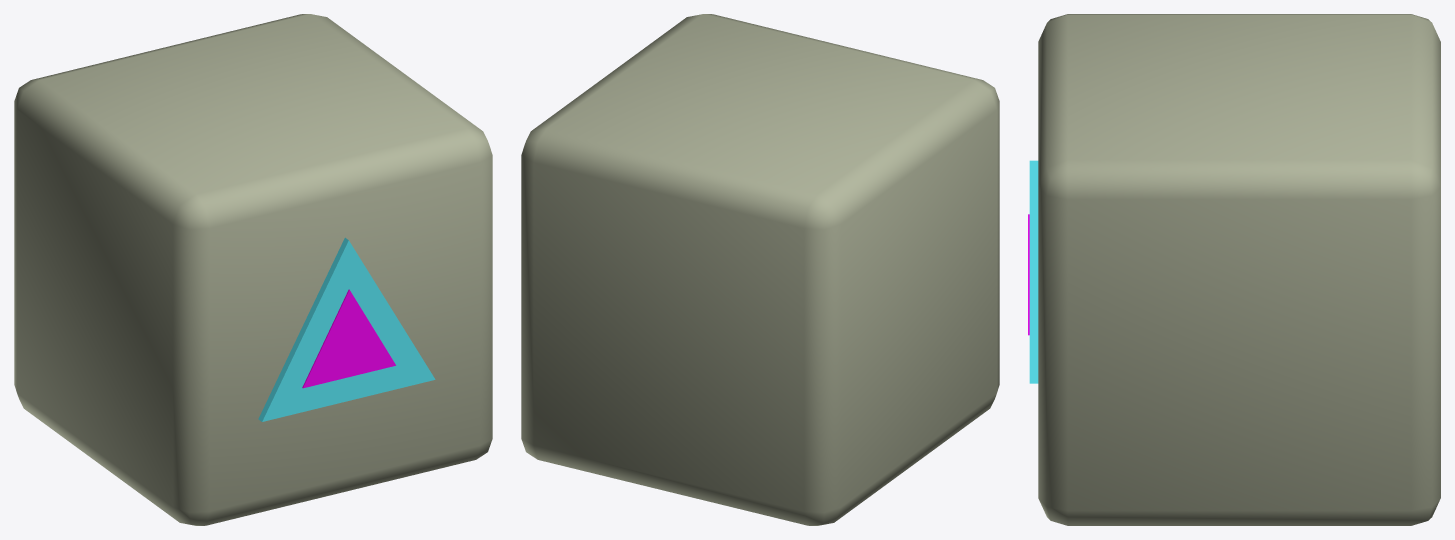
Rendered from glyph_block.glb.
3 renders of one model, left to right at view 1: azimuth 30°, elevation 25°; view 2: azimuth 150°, elevation 25°; view 3: azimuth 270°, elevation 25°, orthographic. The views are drawn at different scales.
Parts seen in each view (by area): view 1: glyph_block; view 2: glyph_block; view 3: glyph_block.
Boxes of the visible parts, x1=… form: glyph_block: x1=14, y1=14, x2=492, y2=525; glyph_block: x1=521, y1=14, x2=999, y2=525; glyph_block: x1=1028, y1=14, x2=1440, y2=525.
Bounding box in the file's own units: 0.95 × 0.95 × 0.974.
